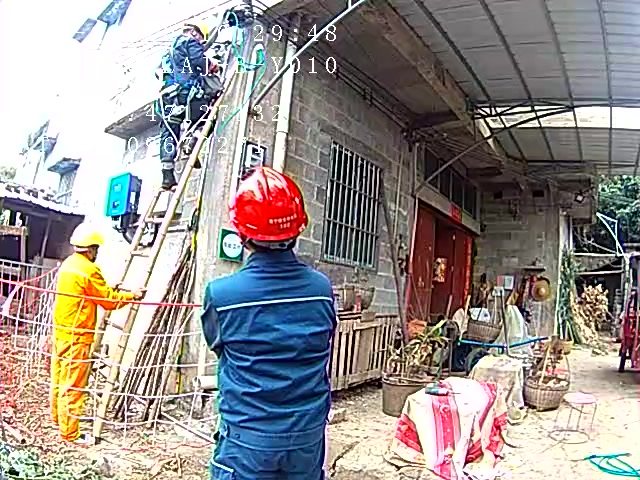downsuit: (209, 447, 331, 480), (159, 96, 213, 163)
halt: (232, 173, 306, 249), (72, 232, 104, 262), (184, 22, 208, 43)
hand: (132, 286, 144, 302)
person: (198, 173, 343, 480), (48, 231, 151, 441), (161, 21, 222, 188)
shoe: (184, 136, 202, 165), (162, 163, 177, 186)
support: (47, 225, 146, 446)
upsuit: (198, 255, 338, 439), (168, 35, 210, 81)
worksign: (215, 228, 245, 264)
ydownsuit: (51, 338, 93, 441)
yupsuit: (57, 257, 135, 342)
